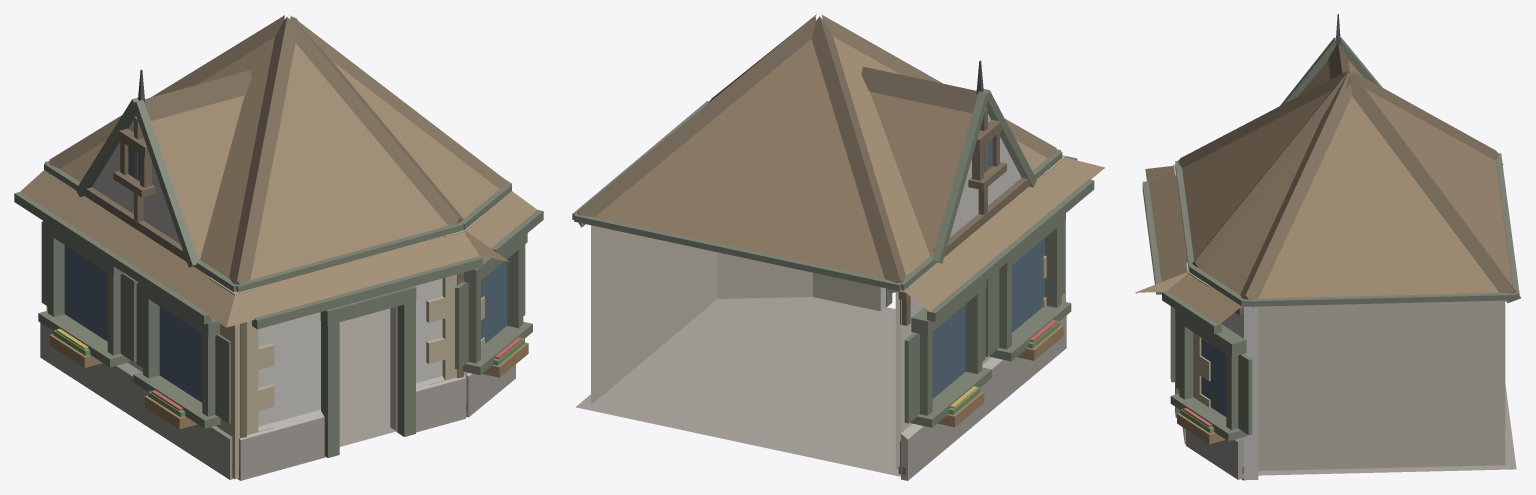
3 views of the same model, side by side, from view 1: azimuth 30°, elevation 25°; view 2: azimuth 150°, elevation 25°; view 3: azimuth 270°, elevation 25° (orthographic). The views are drawn at different scales.
Parts seen in each view (by area): view 1: B038_visible; view 2: B038_visible; view 3: B038_visible.
Part boxes in pixels (bbox=[...]): B038_visible: bbox=[14, 15, 543, 480]; B038_visible: bbox=[572, 14, 1105, 480]; B038_visible: bbox=[1135, 14, 1520, 480].
Size of the model in its own units: 6.78 by 6.23 by 6.52.
